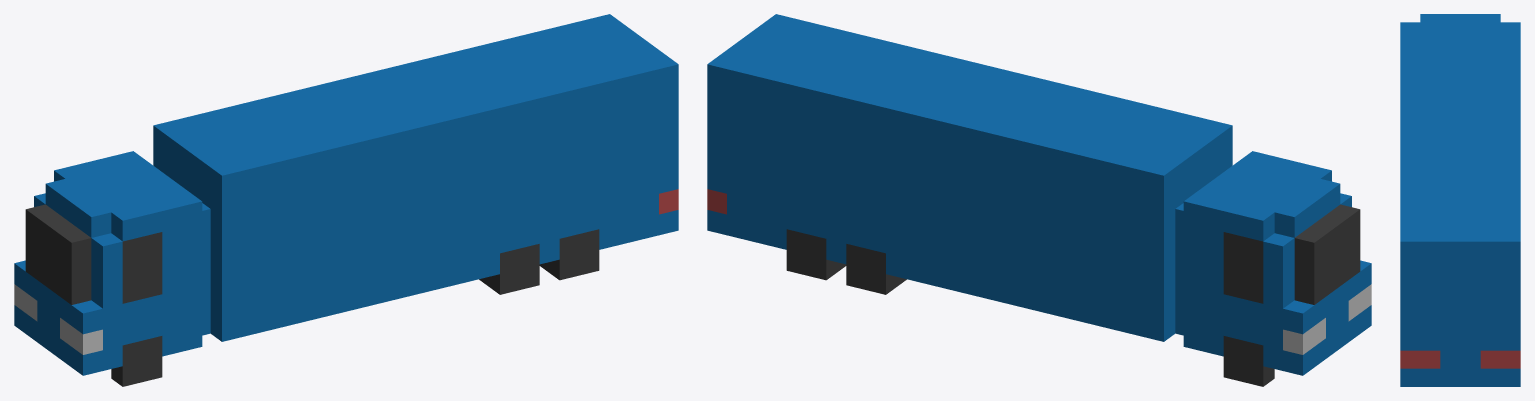
Rendered from truck-v4-blue.gltf.
The picture shows the model from 3 angles, left to right: view 1: azimuth 30°, elevation 25°; view 2: azimuth 150°, elevation 25°; view 3: azimuth 270°, elevation 25°; orthographic projection. The views are drawn at different scales.
Visible parts, largest first — view 1: model, wheels; view 2: model, wheels; view 3: model.
Boxes of the visible parts, x1=… form: model: x1=14, y1=14, x2=678, y2=375; wheels: x1=111, y1=229, x2=599, y2=386; model: x1=707, y1=14, x2=1371, y2=375; wheels: x1=786, y1=229, x2=1274, y2=386; model: x1=1400, y1=14, x2=1520, y2=386.
Size of the model in its own units: 3 by 0.9 by 0.6.
Materials: 2 (2 with a texture image).
